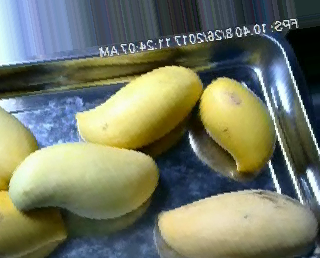Mango: (9, 140, 160, 222), (65, 60, 205, 146), (155, 186, 320, 255), (192, 75, 281, 178), (0, 191, 72, 256), (0, 104, 39, 182)
